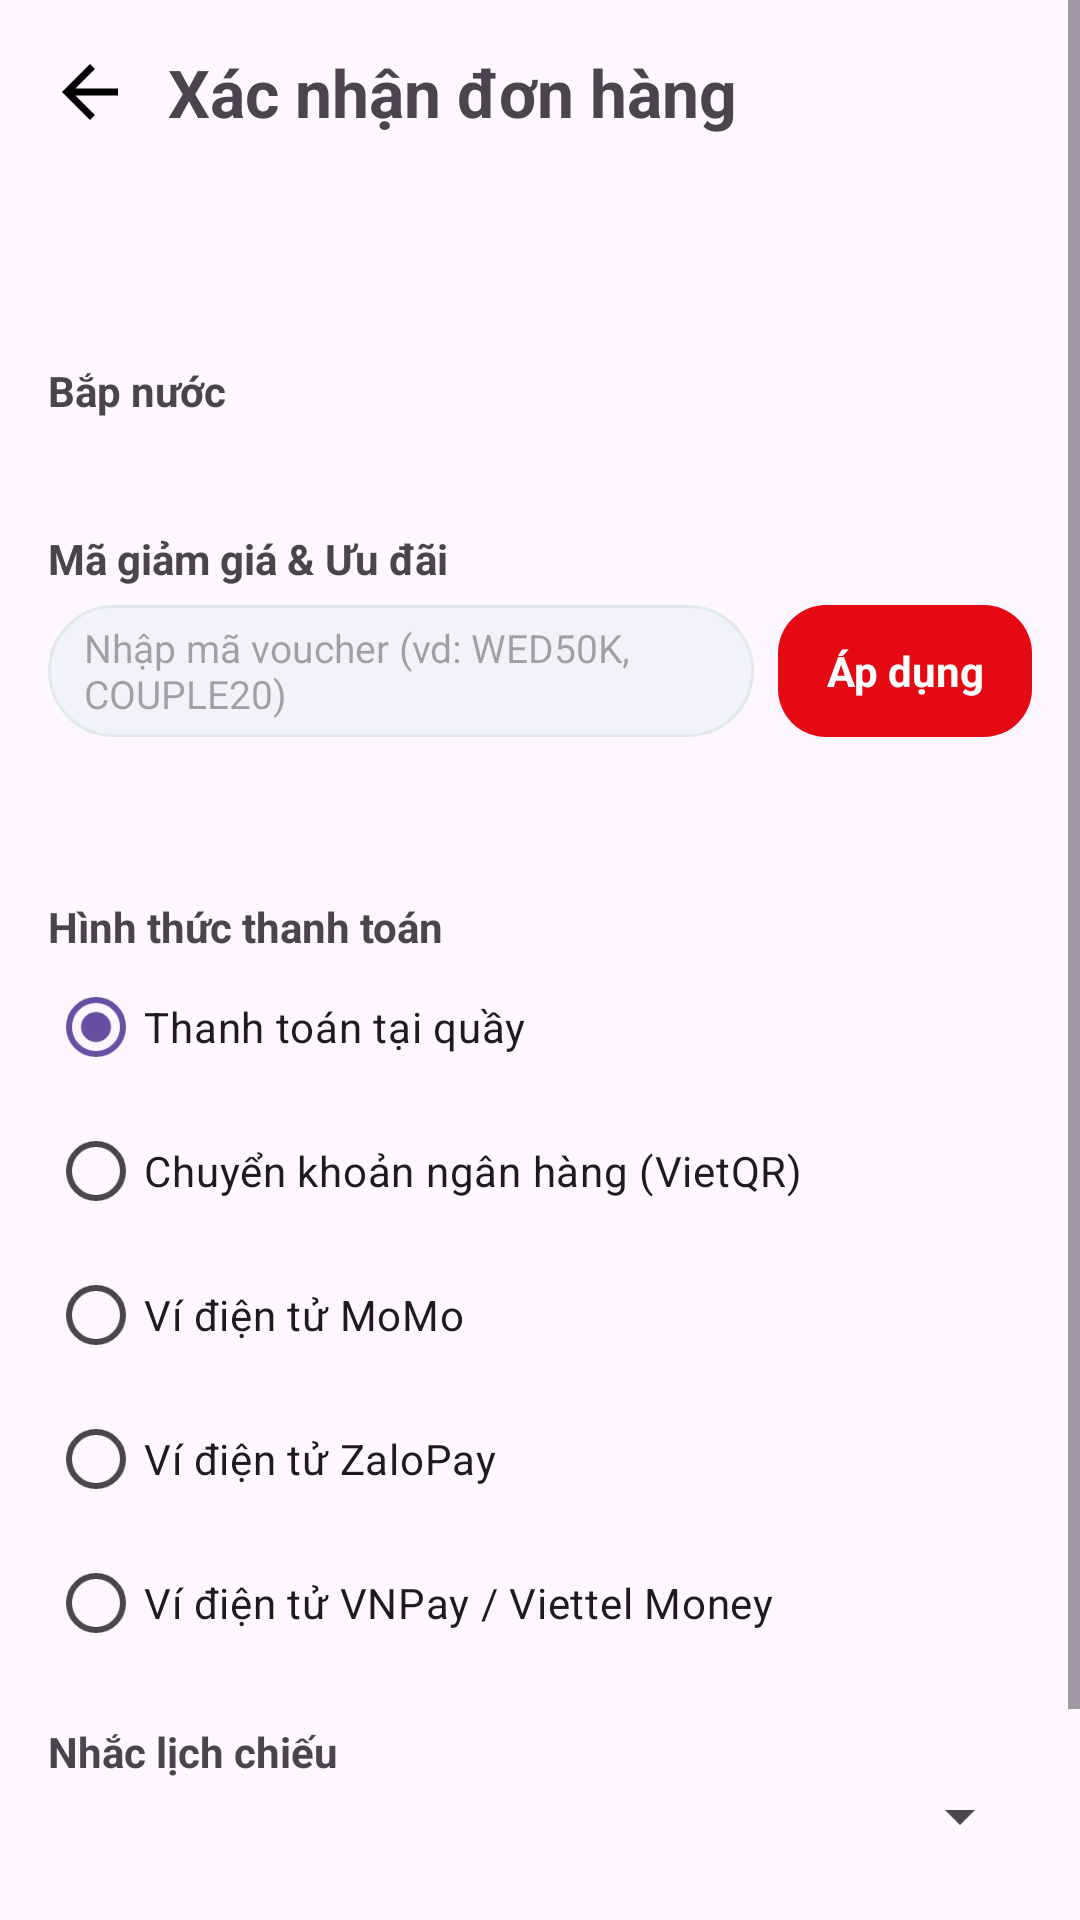

Named icons in this screenshot (1080x1920) and their bounding boxes, {"x1": x1, "y1": y1, "x2": x2, "y2": y2}:
arrow back: {"x1": 62, "y1": 64, "x2": 118, "y2": 120}
